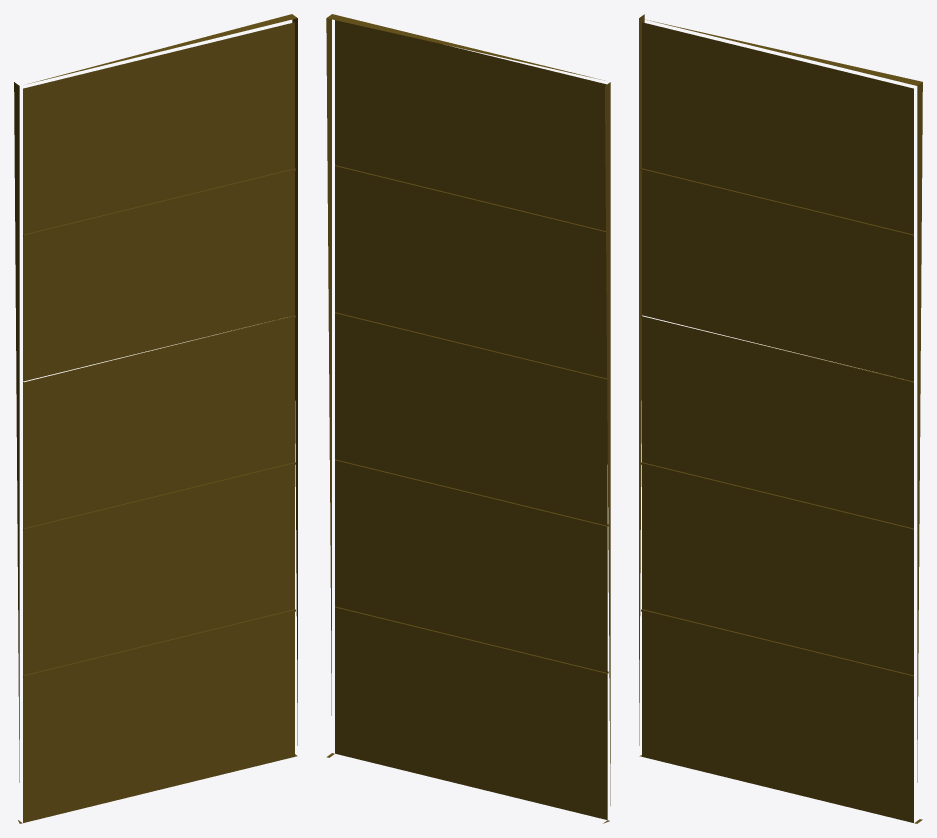
3 views of the same model, side by side, from view 1: azimuth 30°, elevation 25°; view 2: azimuth 150°, elevation 25°; view 3: azimuth 330°, elevation 25° (orthographic).
Size of the model in its own units: 0.6712 by 1.7 by 0.0279.
